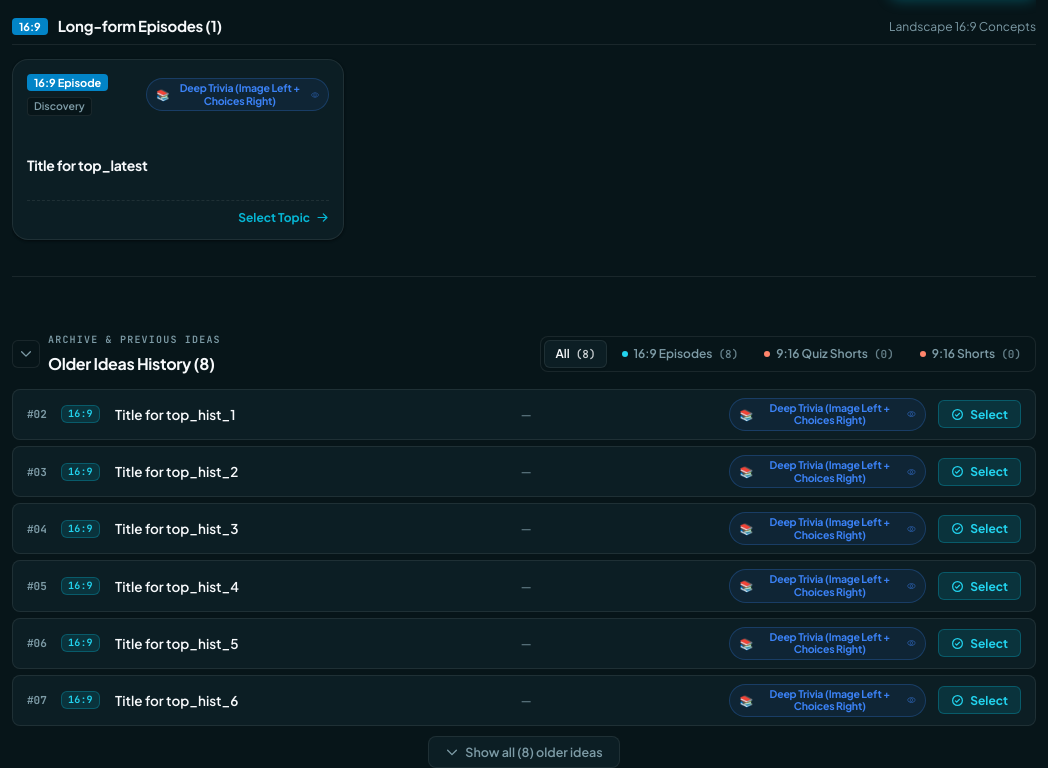
ChannelTopicsTab › applies progressive disclosure defaulting to 6 items and toggles show all/less
The width and height of the screenshot is (1048, 768).
(page scrolled)
Expected: the heading "Older Ideas History (8)" is shown, [48,354,221,375]
Expected: the text "Title for top_hist_1" is shown, [115,406,236,423]
Step 1. Click the button "Show all (8) older ideas" → (524, 752), box [428,736,620,767]
(page scrolled)
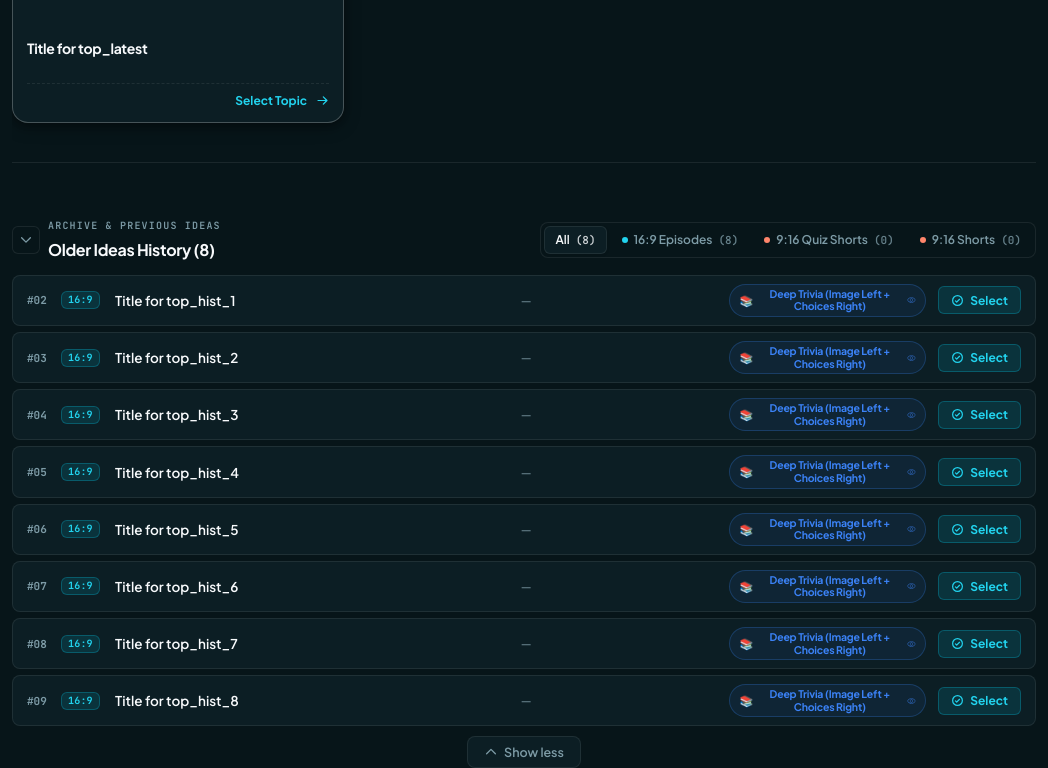
Result: the button named "Show all (8) older ideas" is expanded
Result: the text "Title for top_hist_7" is shown at [115,635,238,652]
Result: the text "Title for top_hist_8" is shown at [115,692,239,709]
Click Show less
Step 2. Click the button "Show less" → (524, 752), box [467,736,581,767]
(page scrolled)
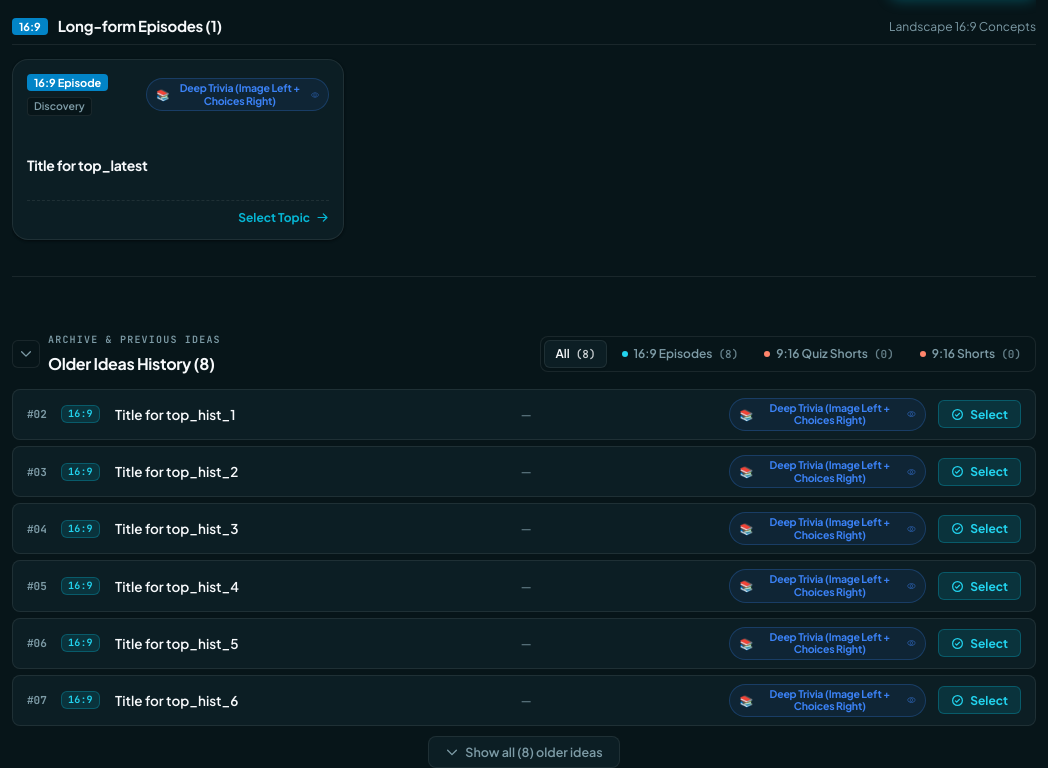
Result: the text "Title for top_hist_7" is gone
Result: the text "Title for top_hist_8" is gone
